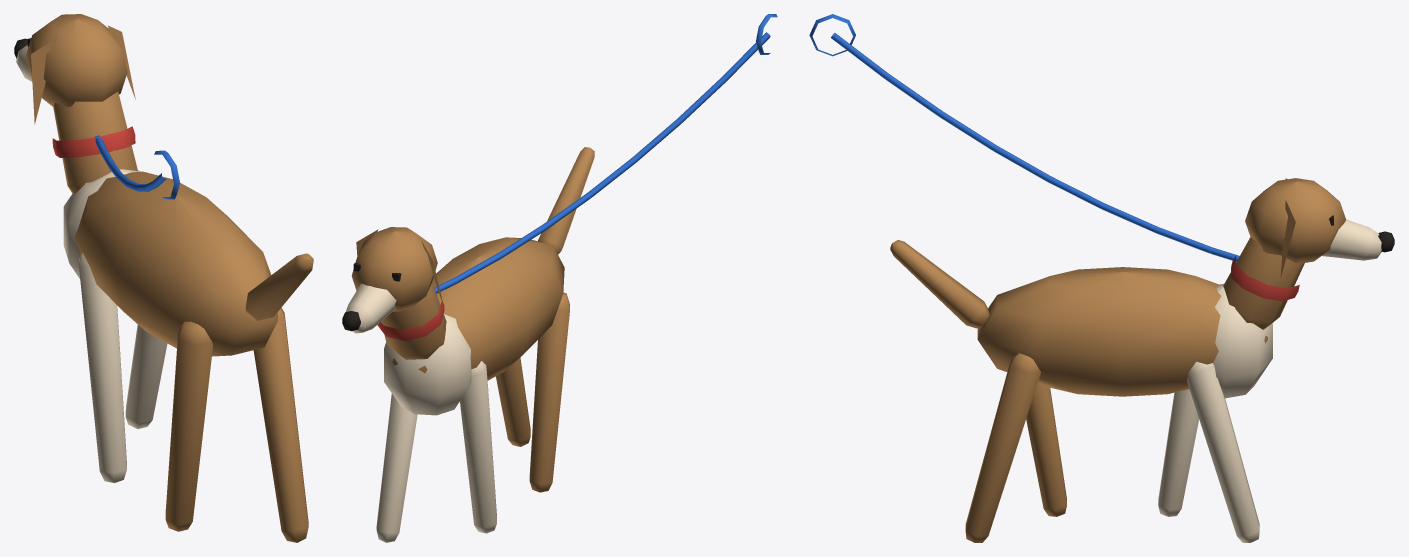
File: dog.glb
3 views of the same model, side by side, from view 1: azimuth 30°, elevation 25°; view 2: azimuth 150°, elevation 25°; view 3: azimuth 270°, elevation 25° (orthographic). The views are drawn at different scales.
Parts seen in each view (by area): view 1: body, leash; view 2: body, leash; view 3: body, leash.
Boxes of the visible parts, x1,y1,x2,y2 form: body: [14, 14, 313, 542]; leash: [95, 135, 179, 199]; body: [342, 147, 594, 542]; leash: [434, 14, 777, 293]; body: [890, 178, 1394, 542]; leash: [809, 14, 1239, 261].
Size of the model in its own units: 0.476 by 0.9587 by 1.15.
